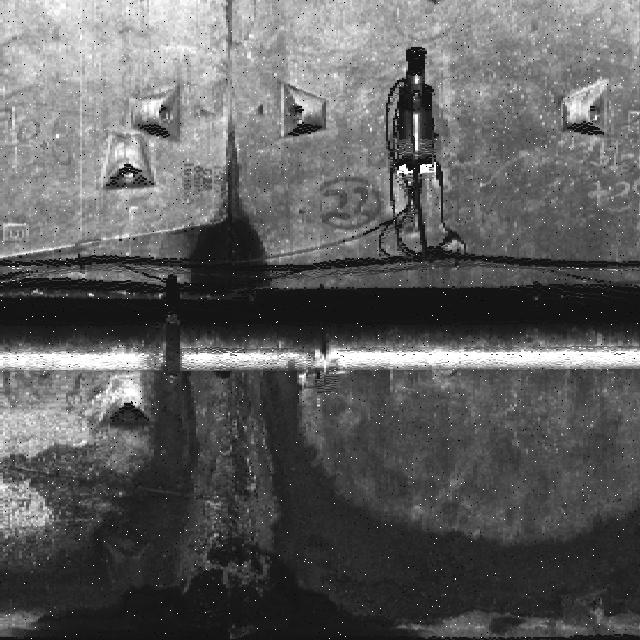leakage: (2, 379, 640, 640), (171, 125, 292, 300)
